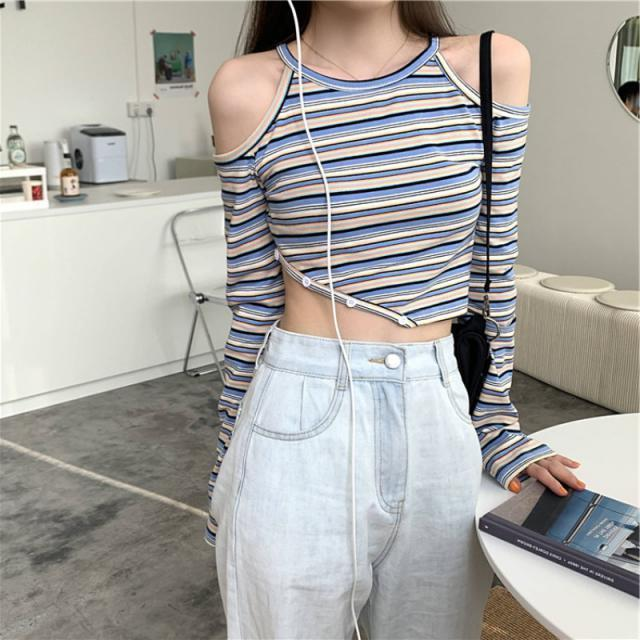long sleeve shirt: (196, 32, 558, 546)
trousers: (211, 321, 509, 640)
